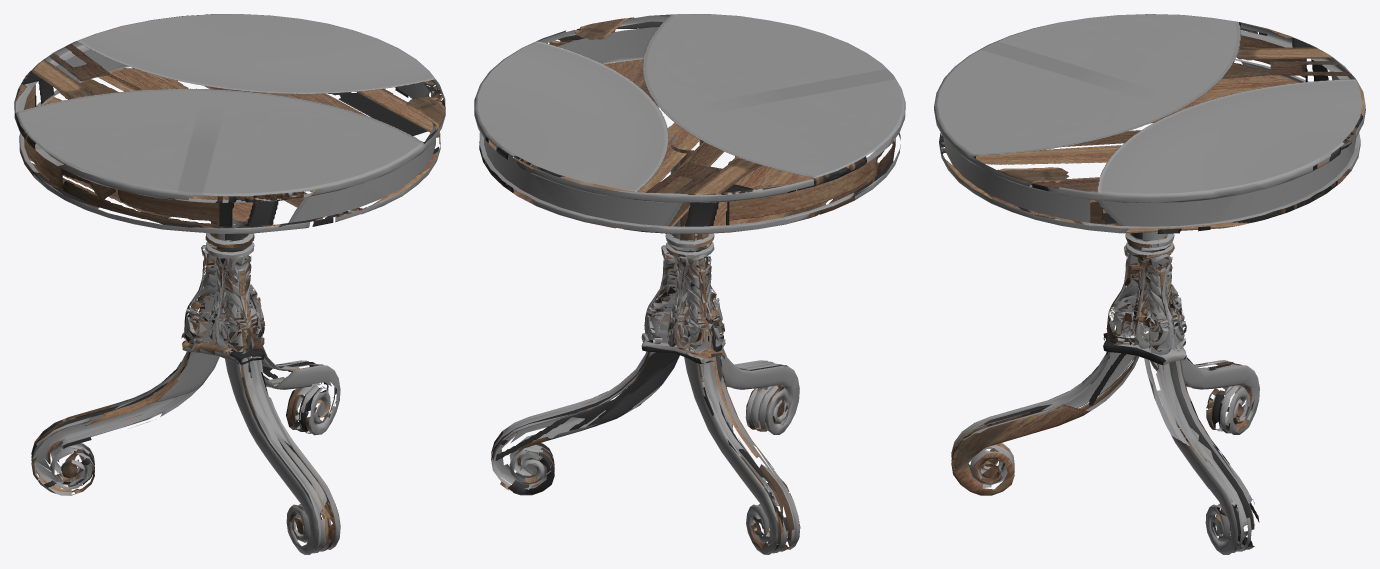
The model's file is raw_model.obj.
3 renders of one model, left to right at view 1: azimuth 30°, elevation 25°; view 2: azimuth 150°, elevation 25°; view 3: azimuth 270°, elevation 25°, orthographic.
Parts seen in each view (by area): view 1: solid_001; view 2: solid_001; view 3: solid_001.
Boxes of the visible parts, x1,y1,x2,y2 form: solid_001: (14, 14, 445, 554); solid_001: (474, 14, 905, 554); solid_001: (934, 14, 1365, 554).
Size of the model in its own units: 0.65 by 0.6419 by 0.6501.
